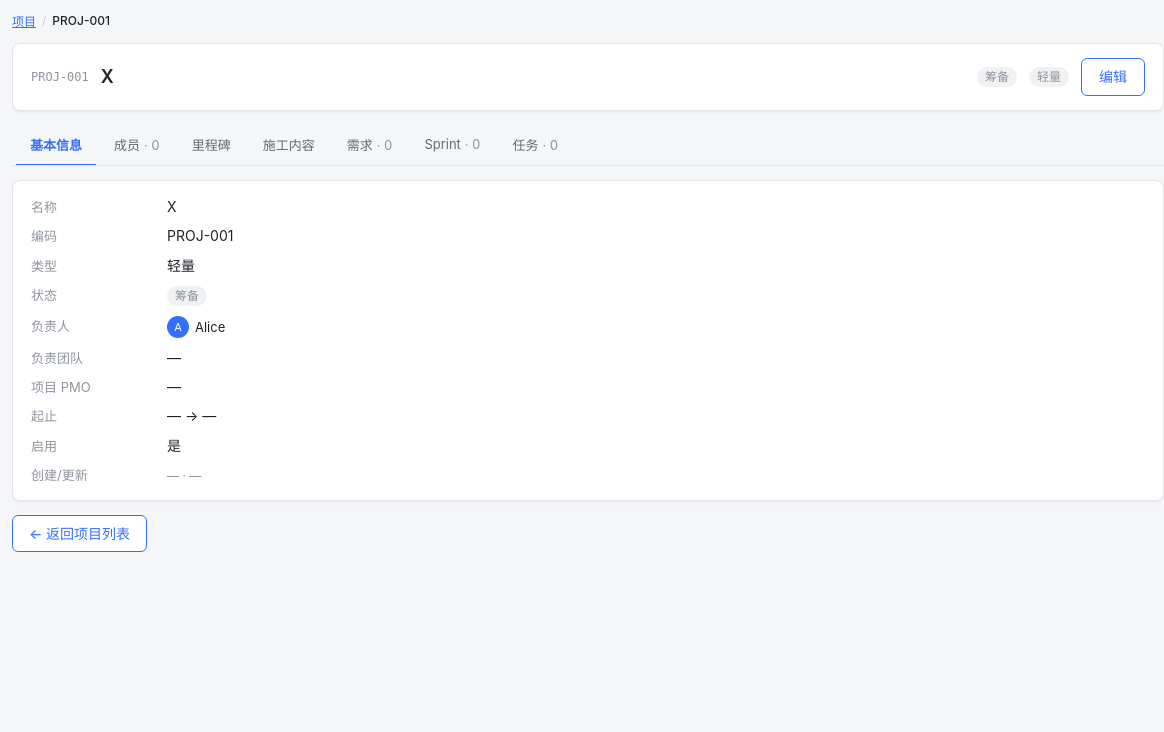
ProjectsPage › detail page 里程碑 tab renders MilestonesPanel (TC-FES-MILE-001)
Click the button with test id "project-tab-milestones".
click(211, 145)  # box top-left (178, 125), bottom-right (245, 166)
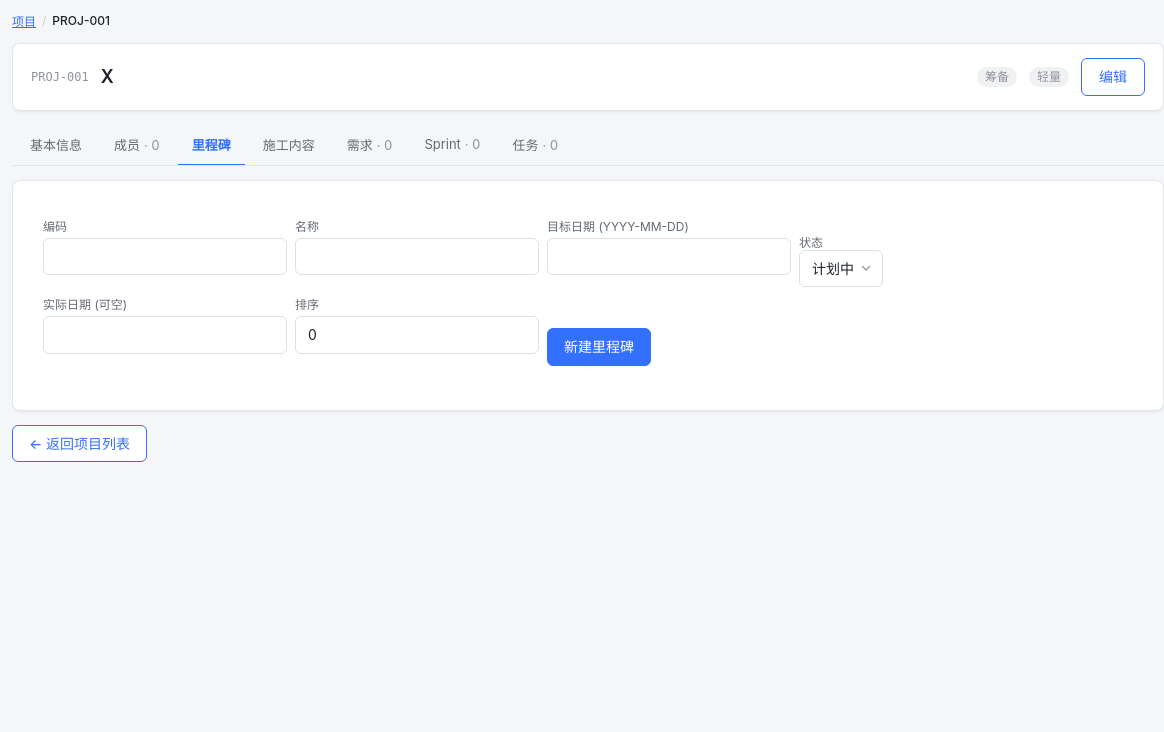
Expected: the element with test id "milestones-panel-7" is shown, top-left (43, 219), bottom-right (883, 366)
